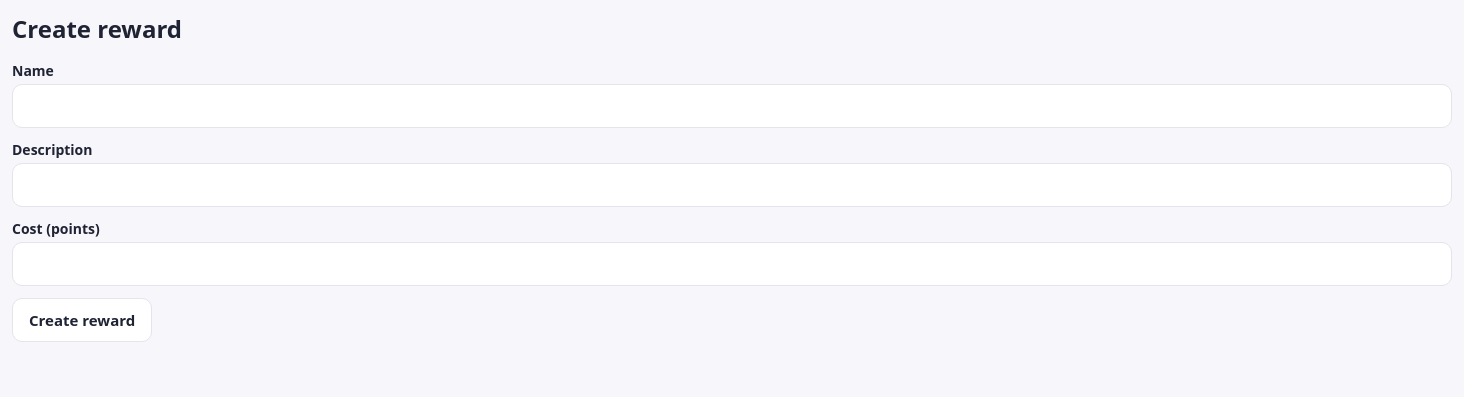
Test: NewRewardPage › displays a mutation error and keeps entered values on failure
In the field labelled "Name": (732,106) x1=12 y1=84 x2=1452 y2=128, type "Reward"
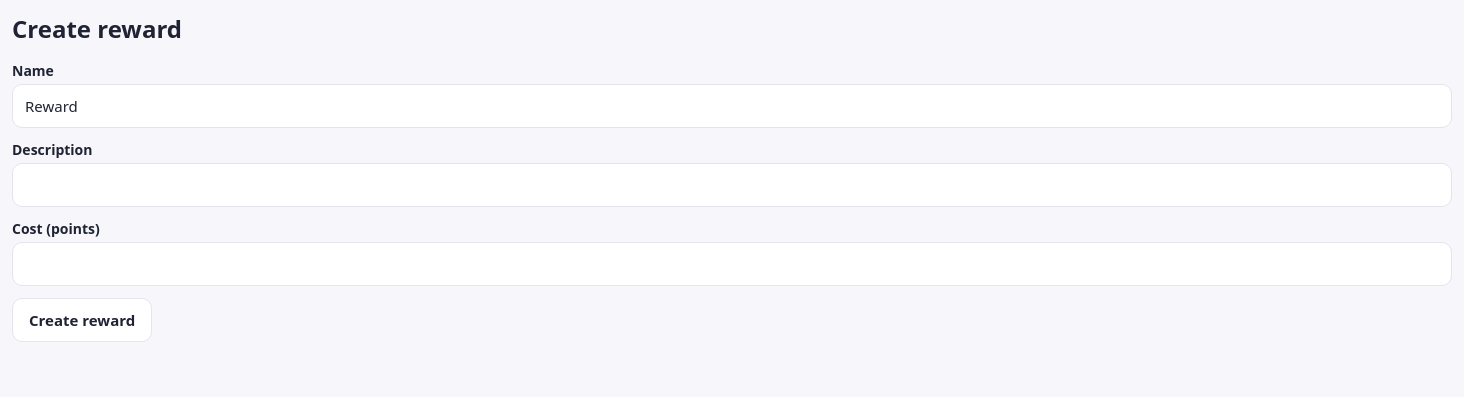
In the number field labelled "Cost (points)": (732,264) x1=12 y1=242 x2=1452 y2=286, type "10"
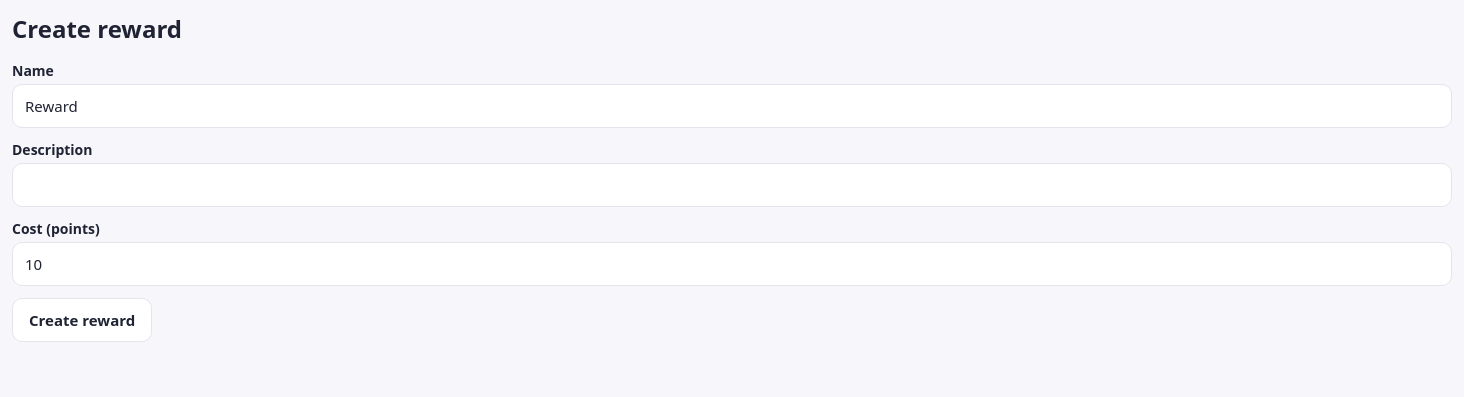
Click the button "Create reward": (82,320) x1=12 y1=298 x2=152 y2=342
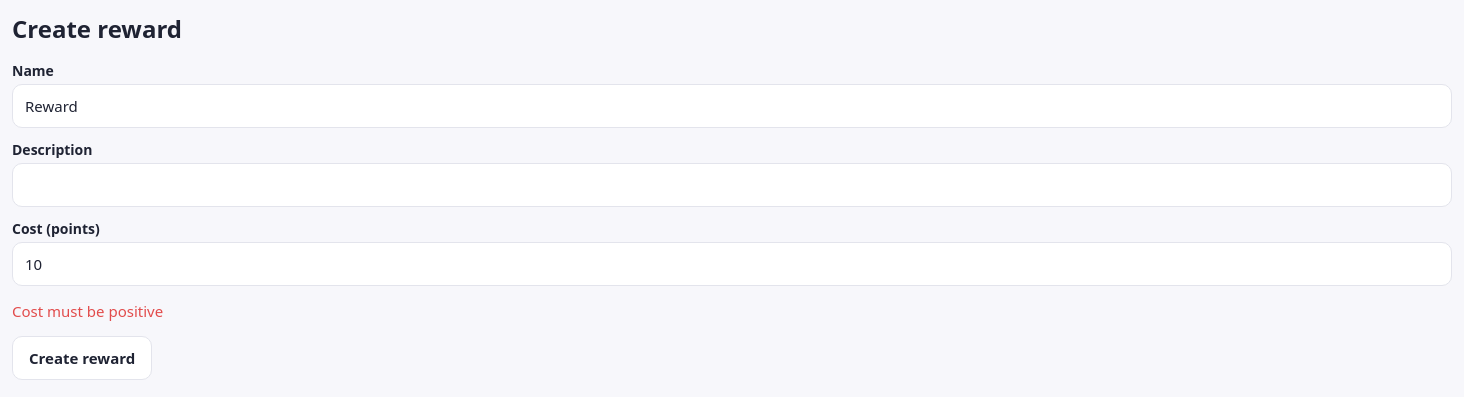
Now the text "Cost must be positive" is shown, box x1=12 y1=301 x2=163 y2=321
